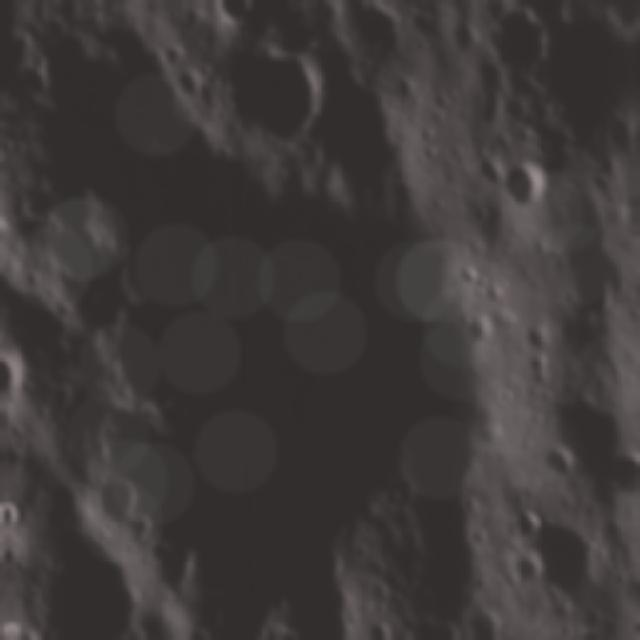crater: (85, 148, 532, 622), (535, 5, 634, 148), (229, 39, 340, 147), (36, 535, 150, 640), (533, 510, 605, 602), (486, 0, 556, 83), (88, 468, 141, 534), (499, 155, 553, 217), (505, 546, 549, 592), (12, 61, 57, 104), (606, 448, 640, 498), (215, 1, 257, 37), (537, 439, 575, 476), (465, 608, 512, 635), (513, 507, 547, 542), (458, 314, 494, 346), (409, 5, 436, 44), (430, 615, 462, 637), (363, 614, 392, 638), (181, 621, 215, 640), (391, 628, 417, 637)
